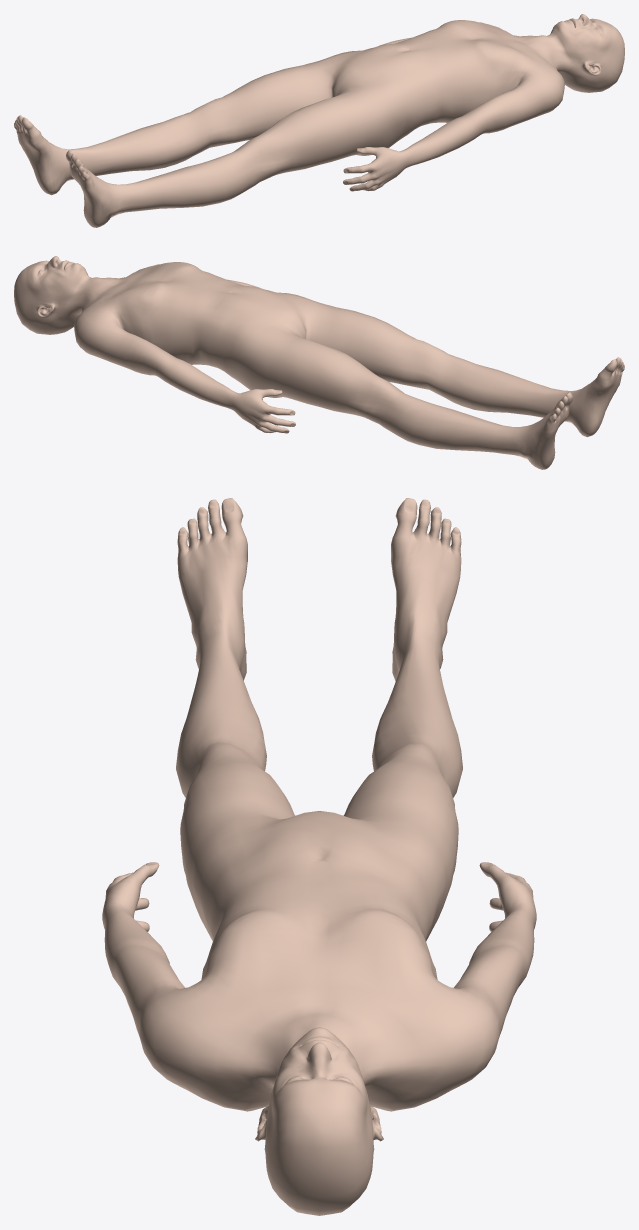
Rendered from patient_urg.glb.
3 views of the same model, one above another, from view 1: azimuth 30°, elevation 25°; view 2: azimuth 150°, elevation 25°; view 3: azimuth 270°, elevation 25° (orthographic). The views are drawn at different scales.
Parts seen in each view (by area): view 1: Peau; view 2: Peau; view 3: Peau.
Boxes of the visible parts, left/top/right/bottom form: Peau: left=14, top=14, right=624, bottom=227; Peau: left=14, top=256, right=624, bottom=469; Peau: left=102, top=498, right=536, bottom=1215.
Size of the model in its own units: 1.79 by 0.2694 by 0.5851.
